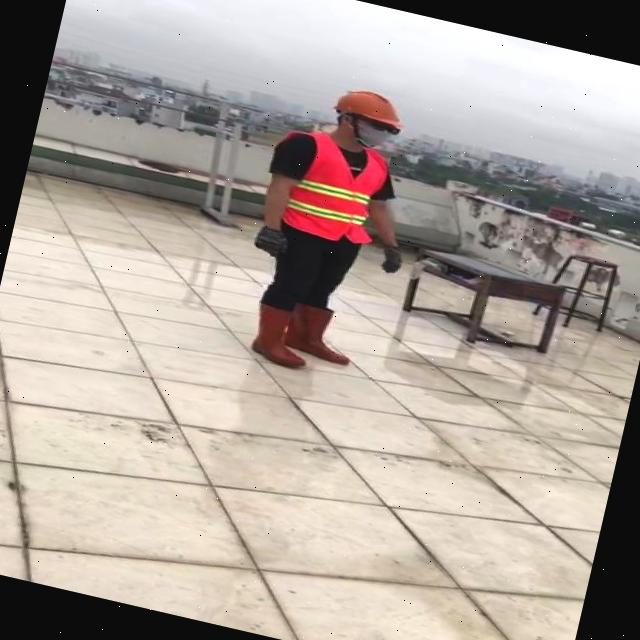boots: (280, 299, 361, 366), (246, 302, 312, 368)
